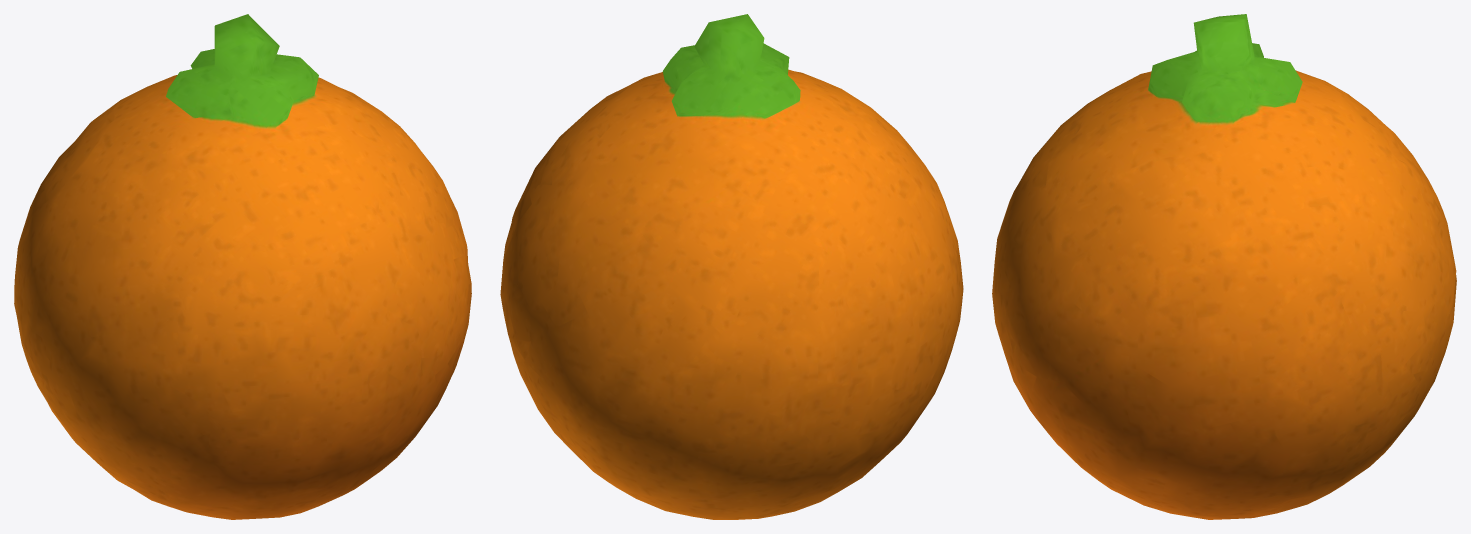
Rendered from orange.glb.
The picture shows the model from 3 angles, left to right: view 1: azimuth 30°, elevation 25°; view 2: azimuth 150°, elevation 25°; view 3: azimuth 270°, elevation 25°; orthographic projection.
Visible parts, largest first — view 1: tripo_node_9eb22804-613d-4d8a-b316-0d30e15c5985; view 2: tripo_node_9eb22804-613d-4d8a-b316-0d30e15c5985; view 3: tripo_node_9eb22804-613d-4d8a-b316-0d30e15c5985.
Part boxes in pixels (x1,y1,x2,y2): tripo_node_9eb22804-613d-4d8a-b316-0d30e15c5985: [14, 14, 471, 519]; tripo_node_9eb22804-613d-4d8a-b316-0d30e15c5985: [500, 14, 963, 519]; tripo_node_9eb22804-613d-4d8a-b316-0d30e15c5985: [992, 14, 1456, 519].
Size of the model in its own units: 0.8605 by 0.9868 by 0.8635.
Materials: 1 (1 with a texture image).
